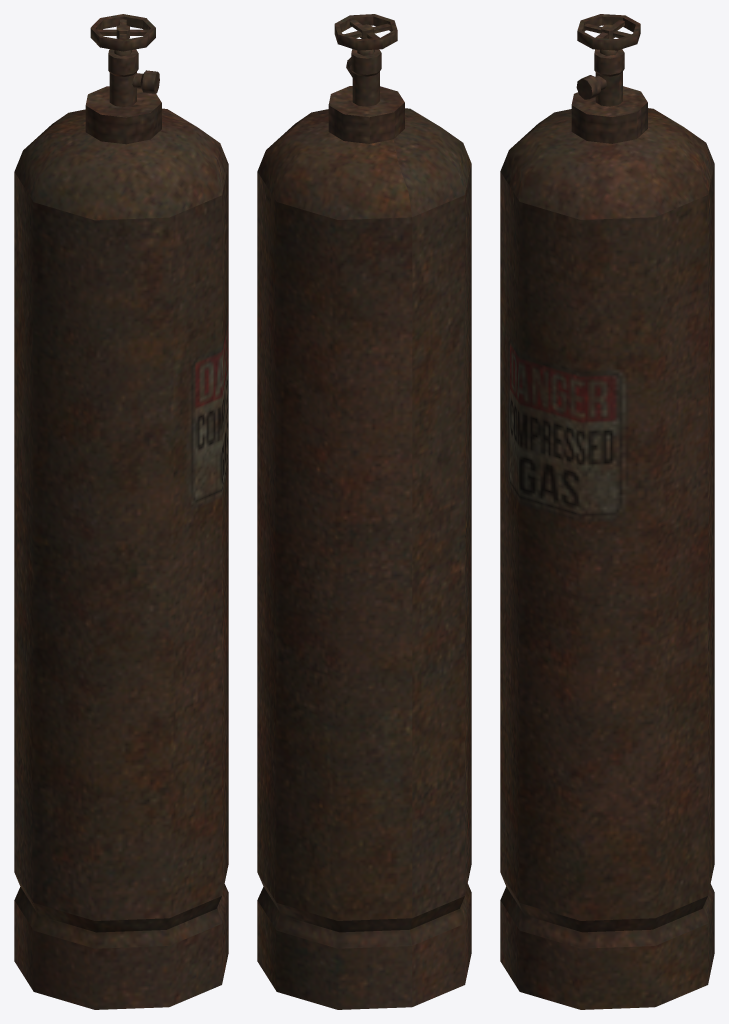
The model's file is gas_cylinder_mx_1.obj.
The picture shows the model from 3 angles, left to right: view 1: azimuth 30°, elevation 25°; view 2: azimuth 150°, elevation 25°; view 3: azimuth 270°, elevation 25°; orthographic projection.
Parts seen in each view (by area): view 1: gas_cylinder_mx_1; view 2: gas_cylinder_mx_1; view 3: gas_cylinder_mx_1.
Part boxes in pixels (x1,y1,x2,y2): gas_cylinder_mx_1: [14, 14, 228, 1009]; gas_cylinder_mx_1: [257, 14, 471, 1009]; gas_cylinder_mx_1: [500, 14, 714, 1009].
Size of the model in its own units: 0.3278 by 1.58 by 0.3278.
